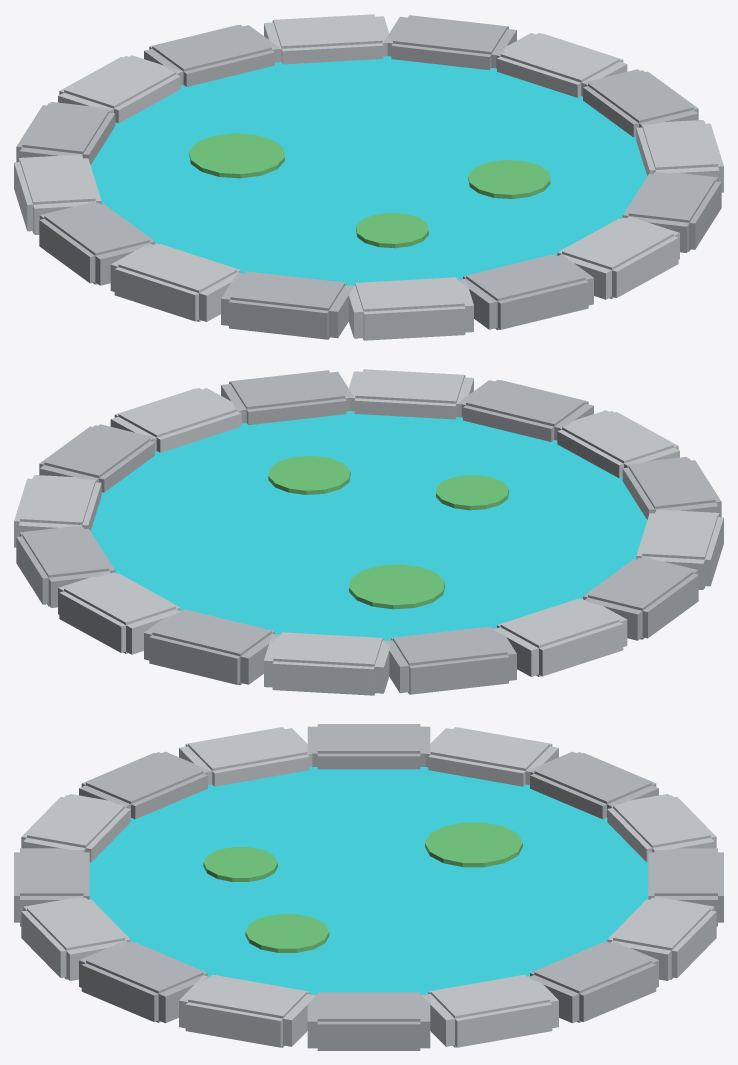
The model's file is terrain_pond_patch_6x6.glb.
The picture shows the model from 3 angles, top to bottom: view 1: azimuth 30°, elevation 25°; view 2: azimuth 150°, elevation 25°; view 3: azimuth 270°, elevation 25°; orthographic projection.
Visible parts, largest first — view 1: Mesh_Pond_Rim, Mesh_Pond_Water.001; view 2: Mesh_Pond_Rim, Mesh_Pond_Water.001; view 3: Mesh_Pond_Rim, Mesh_Pond_Water.001.
Boxes of the visible parts, x1,y1,x2,y2 form: Mesh_Pond_Rim: [14, 14, 723, 340]; Mesh_Pond_Water.001: [90, 56, 647, 285]; Mesh_Pond_Rim: [14, 369, 723, 695]; Mesh_Pond_Water.001: [90, 411, 647, 640]; Mesh_Pond_Rim: [14, 724, 723, 1050]; Mesh_Pond_Water.001: [89, 767, 648, 994].
Size of what is drawn, in the model's own units: 6.09 by 0.3 by 6.09.
